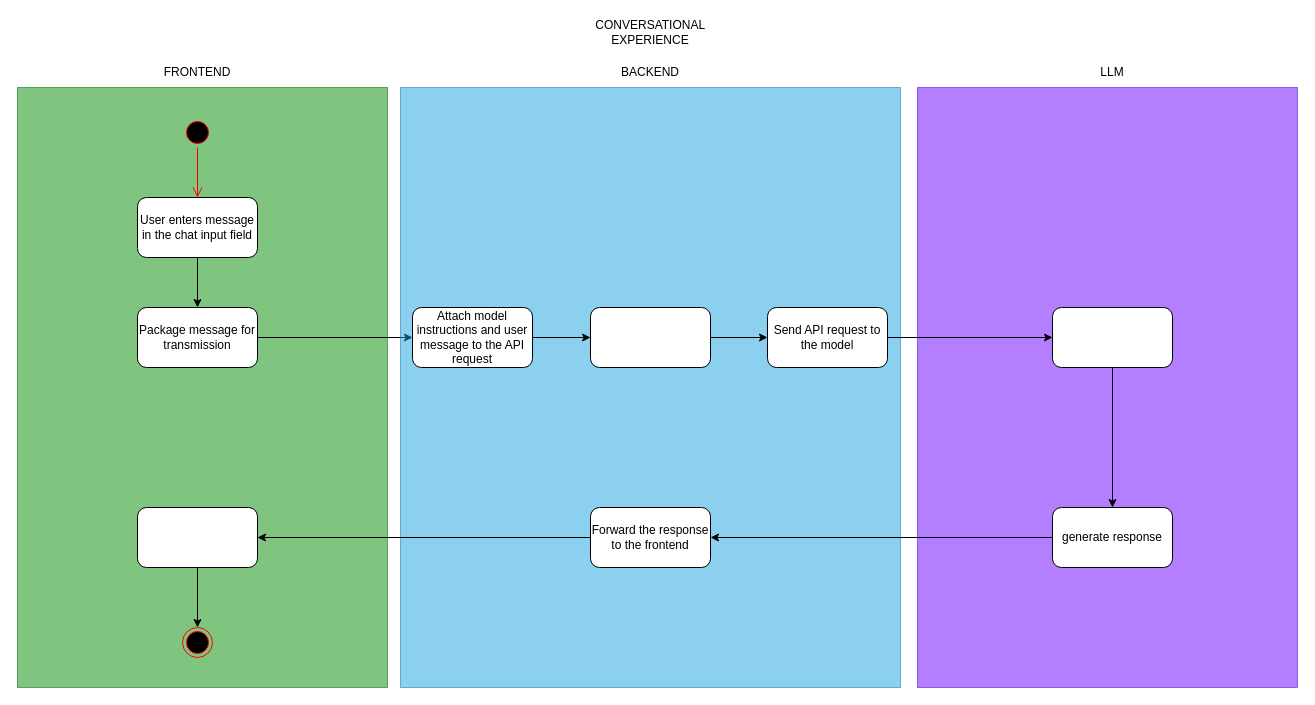
The diagram is 1315 pixels wide and 705 high, and some of its shapes have lost their labels. Each missing label, with the centre of its shape:
"Authenticate request using the API key" belongs at [650,337].
"Display the message to the user" belongs at [197,537].
"Receive message" belongs at [1112,337].
